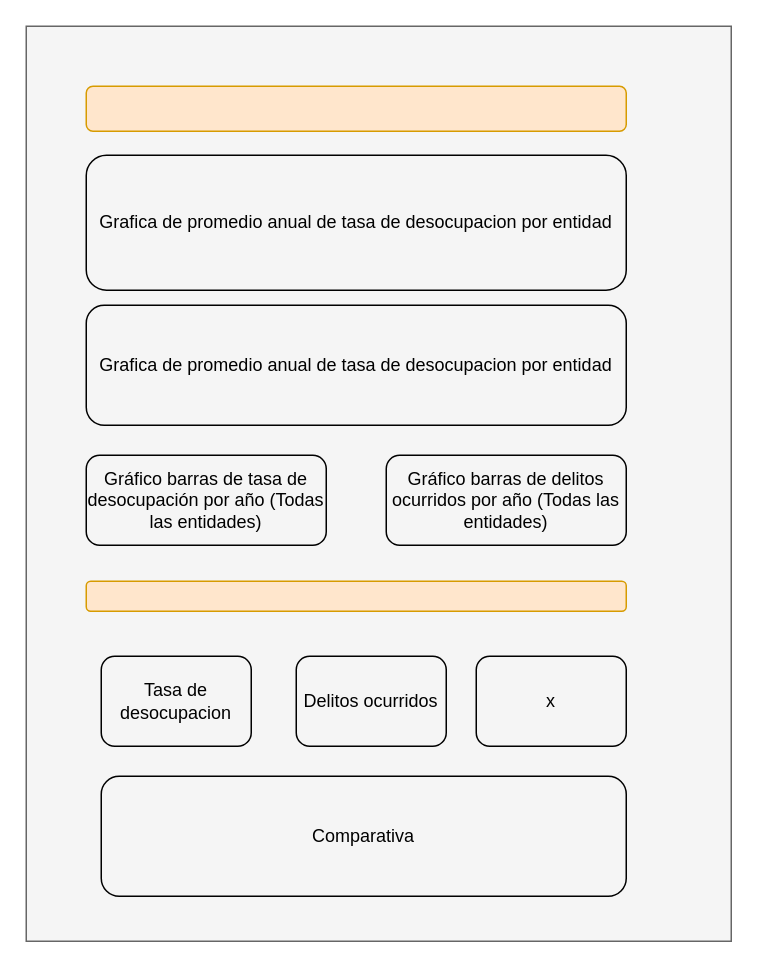
Some shapes in this 758 by 968 pixel diagram are drawn without their labels. The box of each missing label's shape, as (x1, y1, x2, y2) in pixels:
Graficas de entidades con mayor desocupacion promedio: (85, 580, 626, 611)
¿Como afecta la tasa de desocupación en un estado?: (85, 85, 626, 131)
